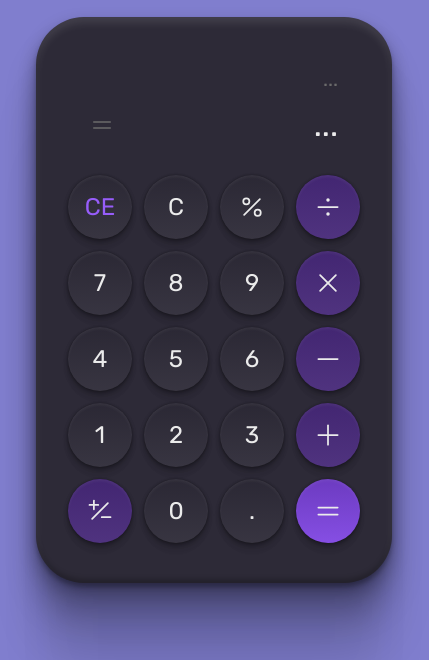
Test: Use the basic calculator operations › subtraction two numbers
Click the text with id "key-6" at (252, 359), box [220, 327, 284, 391]
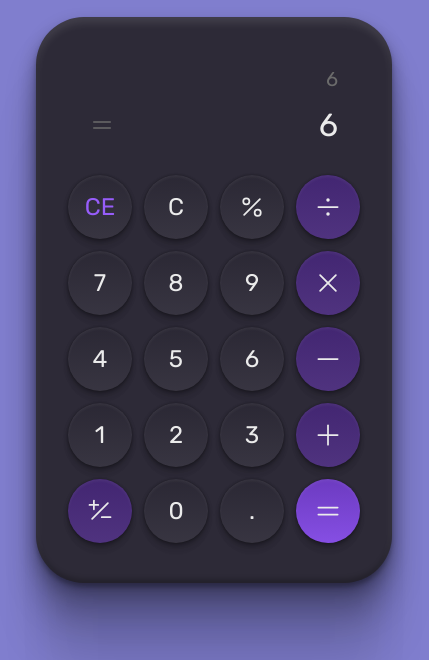
Click the element with id "key-minus" at (328, 359), box [296, 327, 360, 391]
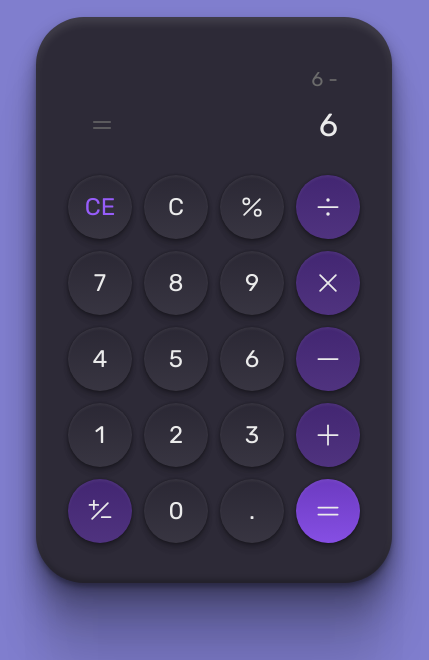
Click the text with id "key-4" at (100, 359), box [68, 327, 132, 391]
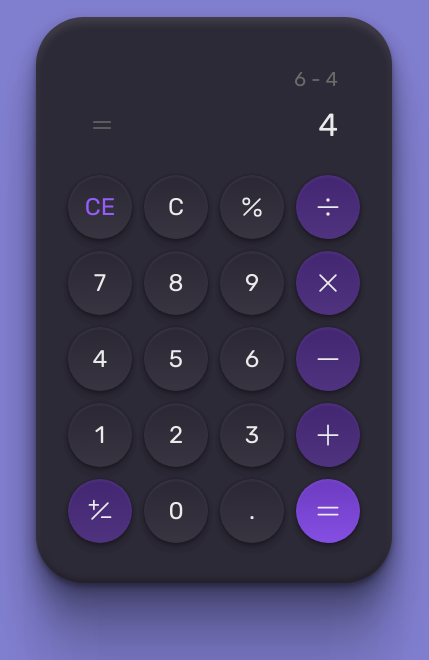
Expected: the text with class "head-calculator-operations" reads "6 - 4", [294, 65, 338, 93]
Click the element with id "key-equals" at (328, 511), box [296, 479, 360, 543]
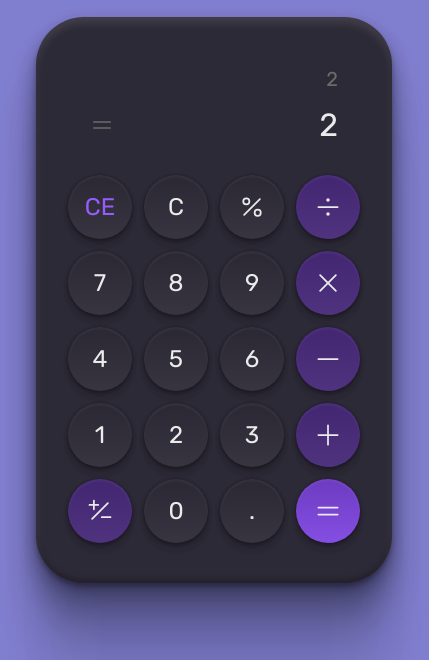
Expected: the text with class "head-calculator-operations" reads "2", [326, 65, 338, 93]
Expected: the text with id "result" reads "2", [319, 101, 338, 149]
